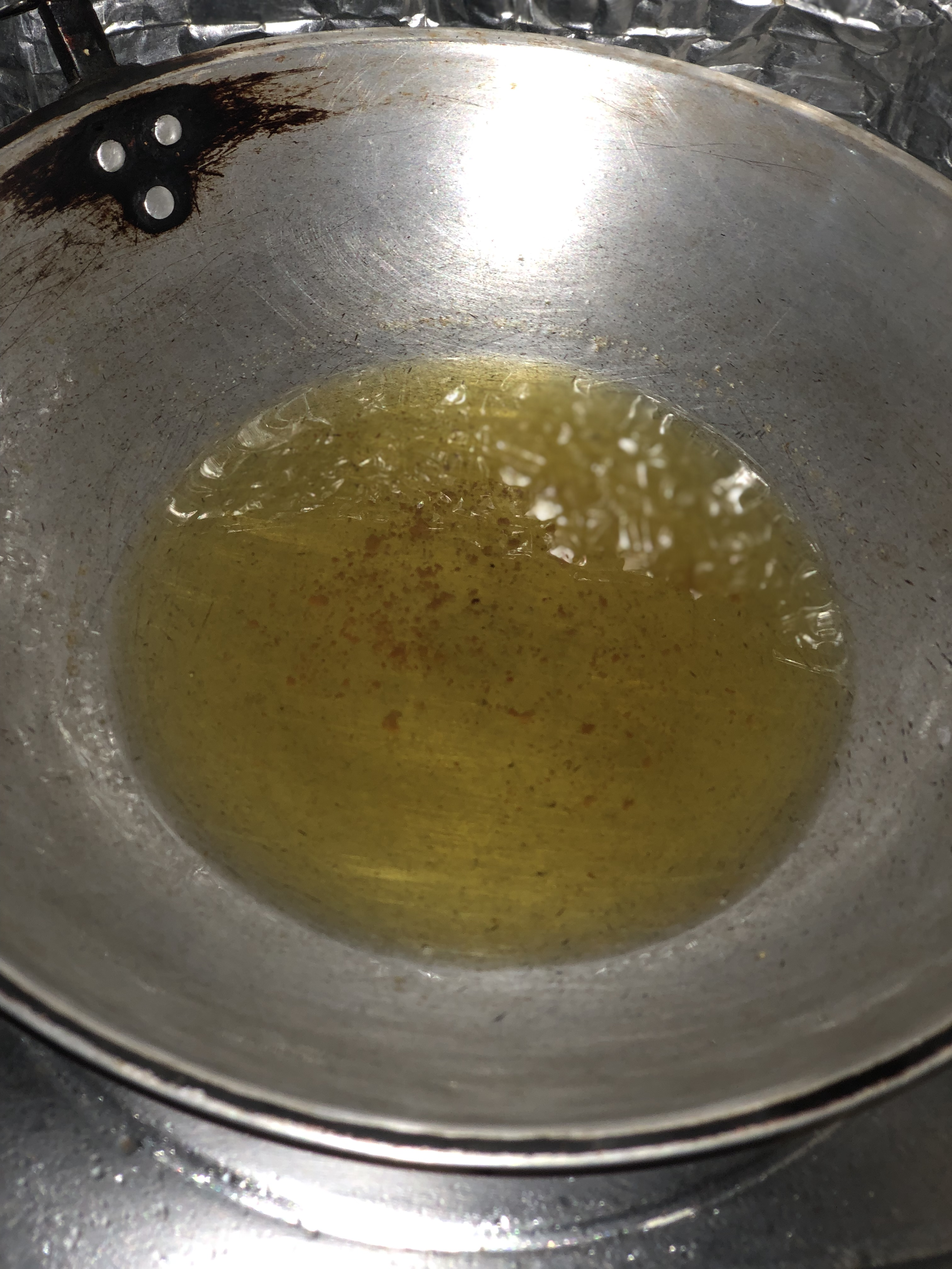reusable: (126, 356, 847, 966)
